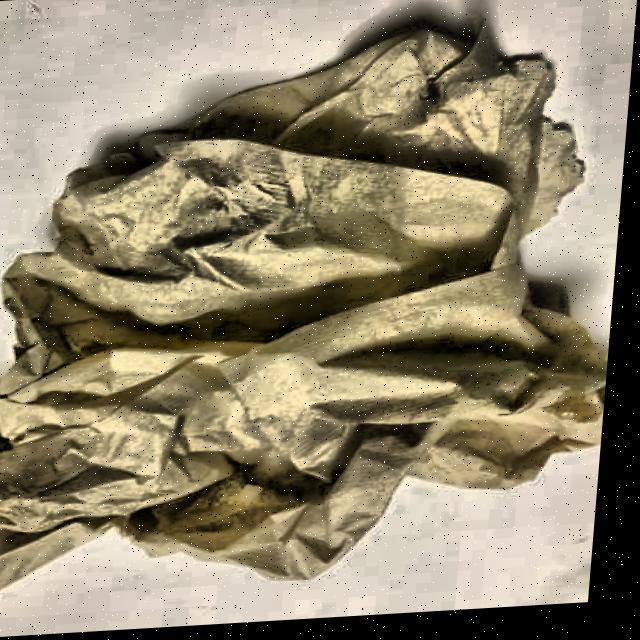paper: (0, 3, 637, 614)
